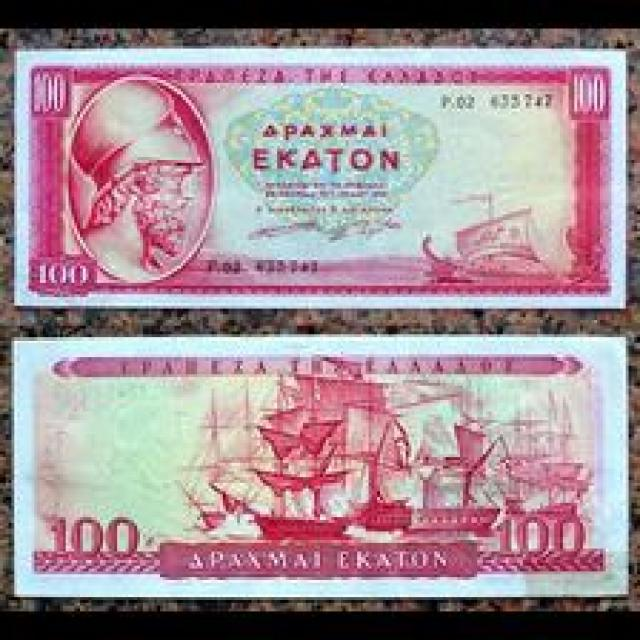banknote: (17, 48, 626, 306), (16, 337, 630, 591), (37, 508, 156, 568), (493, 511, 594, 577), (560, 61, 614, 124), (30, 248, 97, 296), (24, 66, 80, 123)
